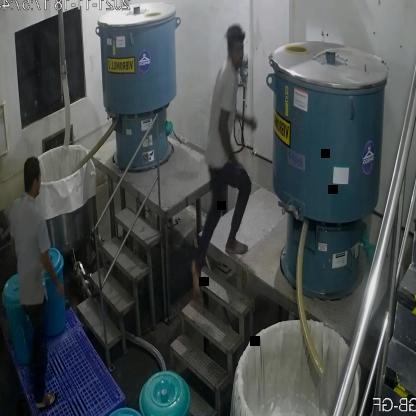no_shoes: (224, 233, 252, 258), (35, 389, 56, 413)
